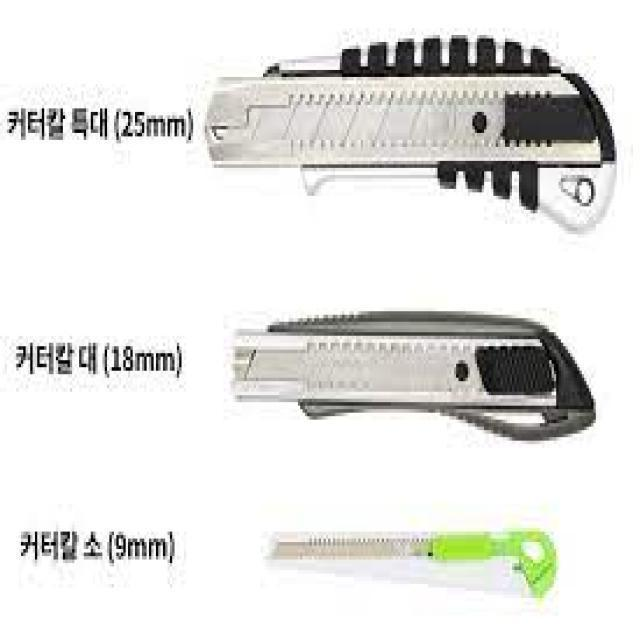cutter: (201, 23, 620, 246), (224, 308, 610, 442), (258, 502, 556, 610)
